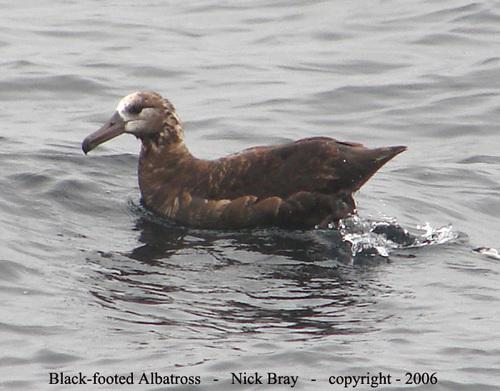001.Black_footed_Albatross: (79, 87, 428, 253)
